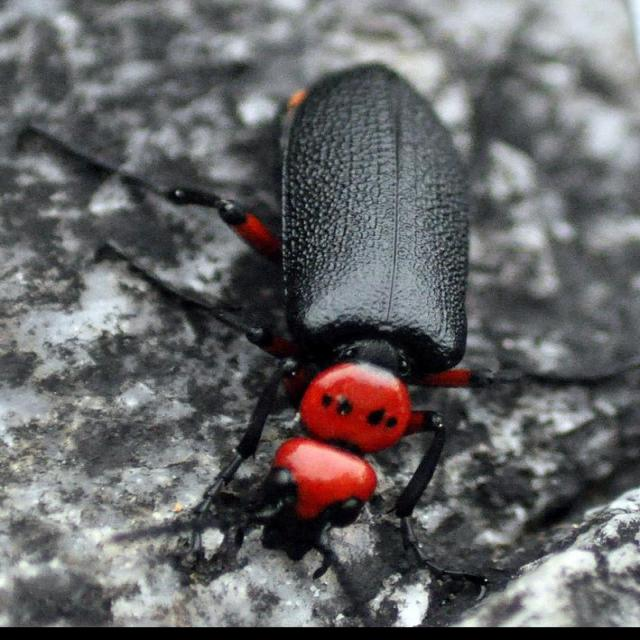BlisterBeetle-Adult-: (75, 43, 527, 553)
